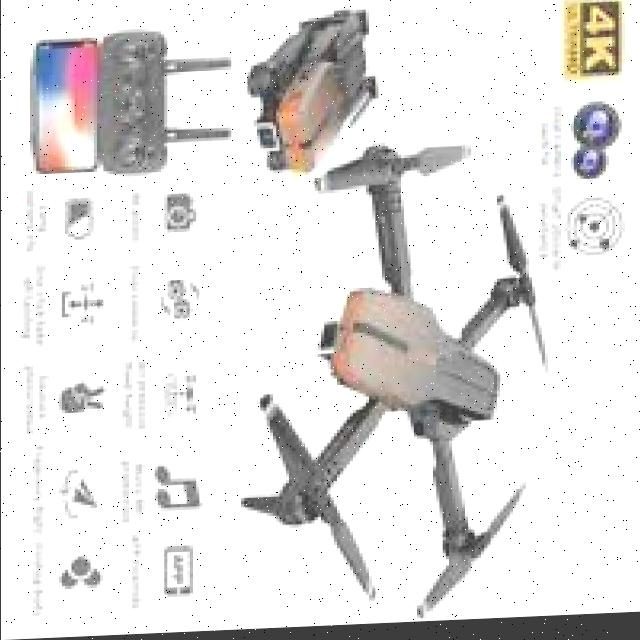drone: (232, 145, 544, 622)
